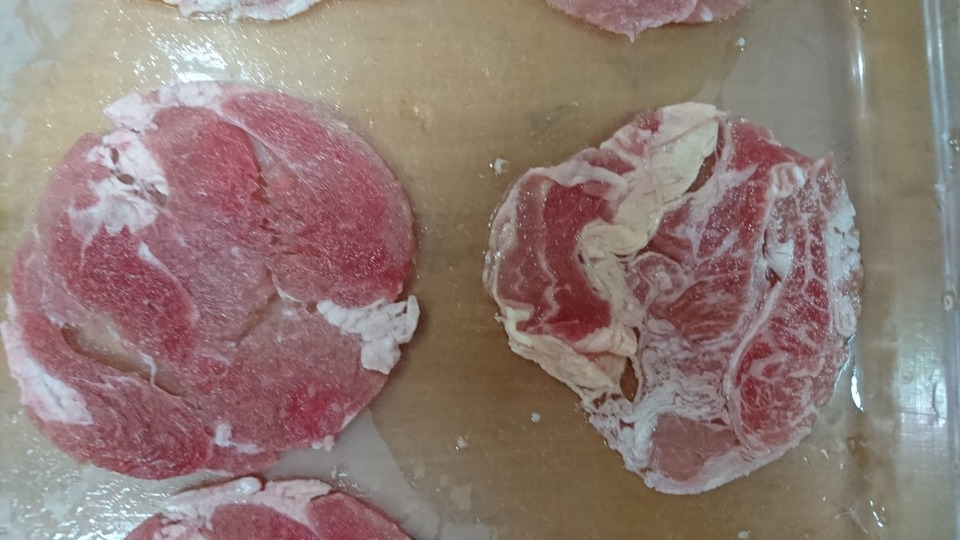restructured meat: (10, 88, 436, 463), (479, 126, 869, 490), (127, 476, 423, 537)
